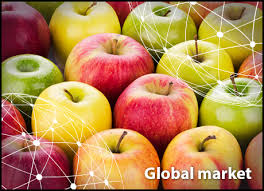apple: (63, 32, 157, 97), (121, 74, 205, 139), (74, 129, 158, 190), (163, 126, 247, 187), (36, 80, 108, 144), (51, 4, 124, 54), (7, 131, 66, 191), (163, 40, 233, 90), (201, 80, 263, 133), (131, 3, 195, 53), (1, 56, 58, 103), (2, 3, 54, 53)
